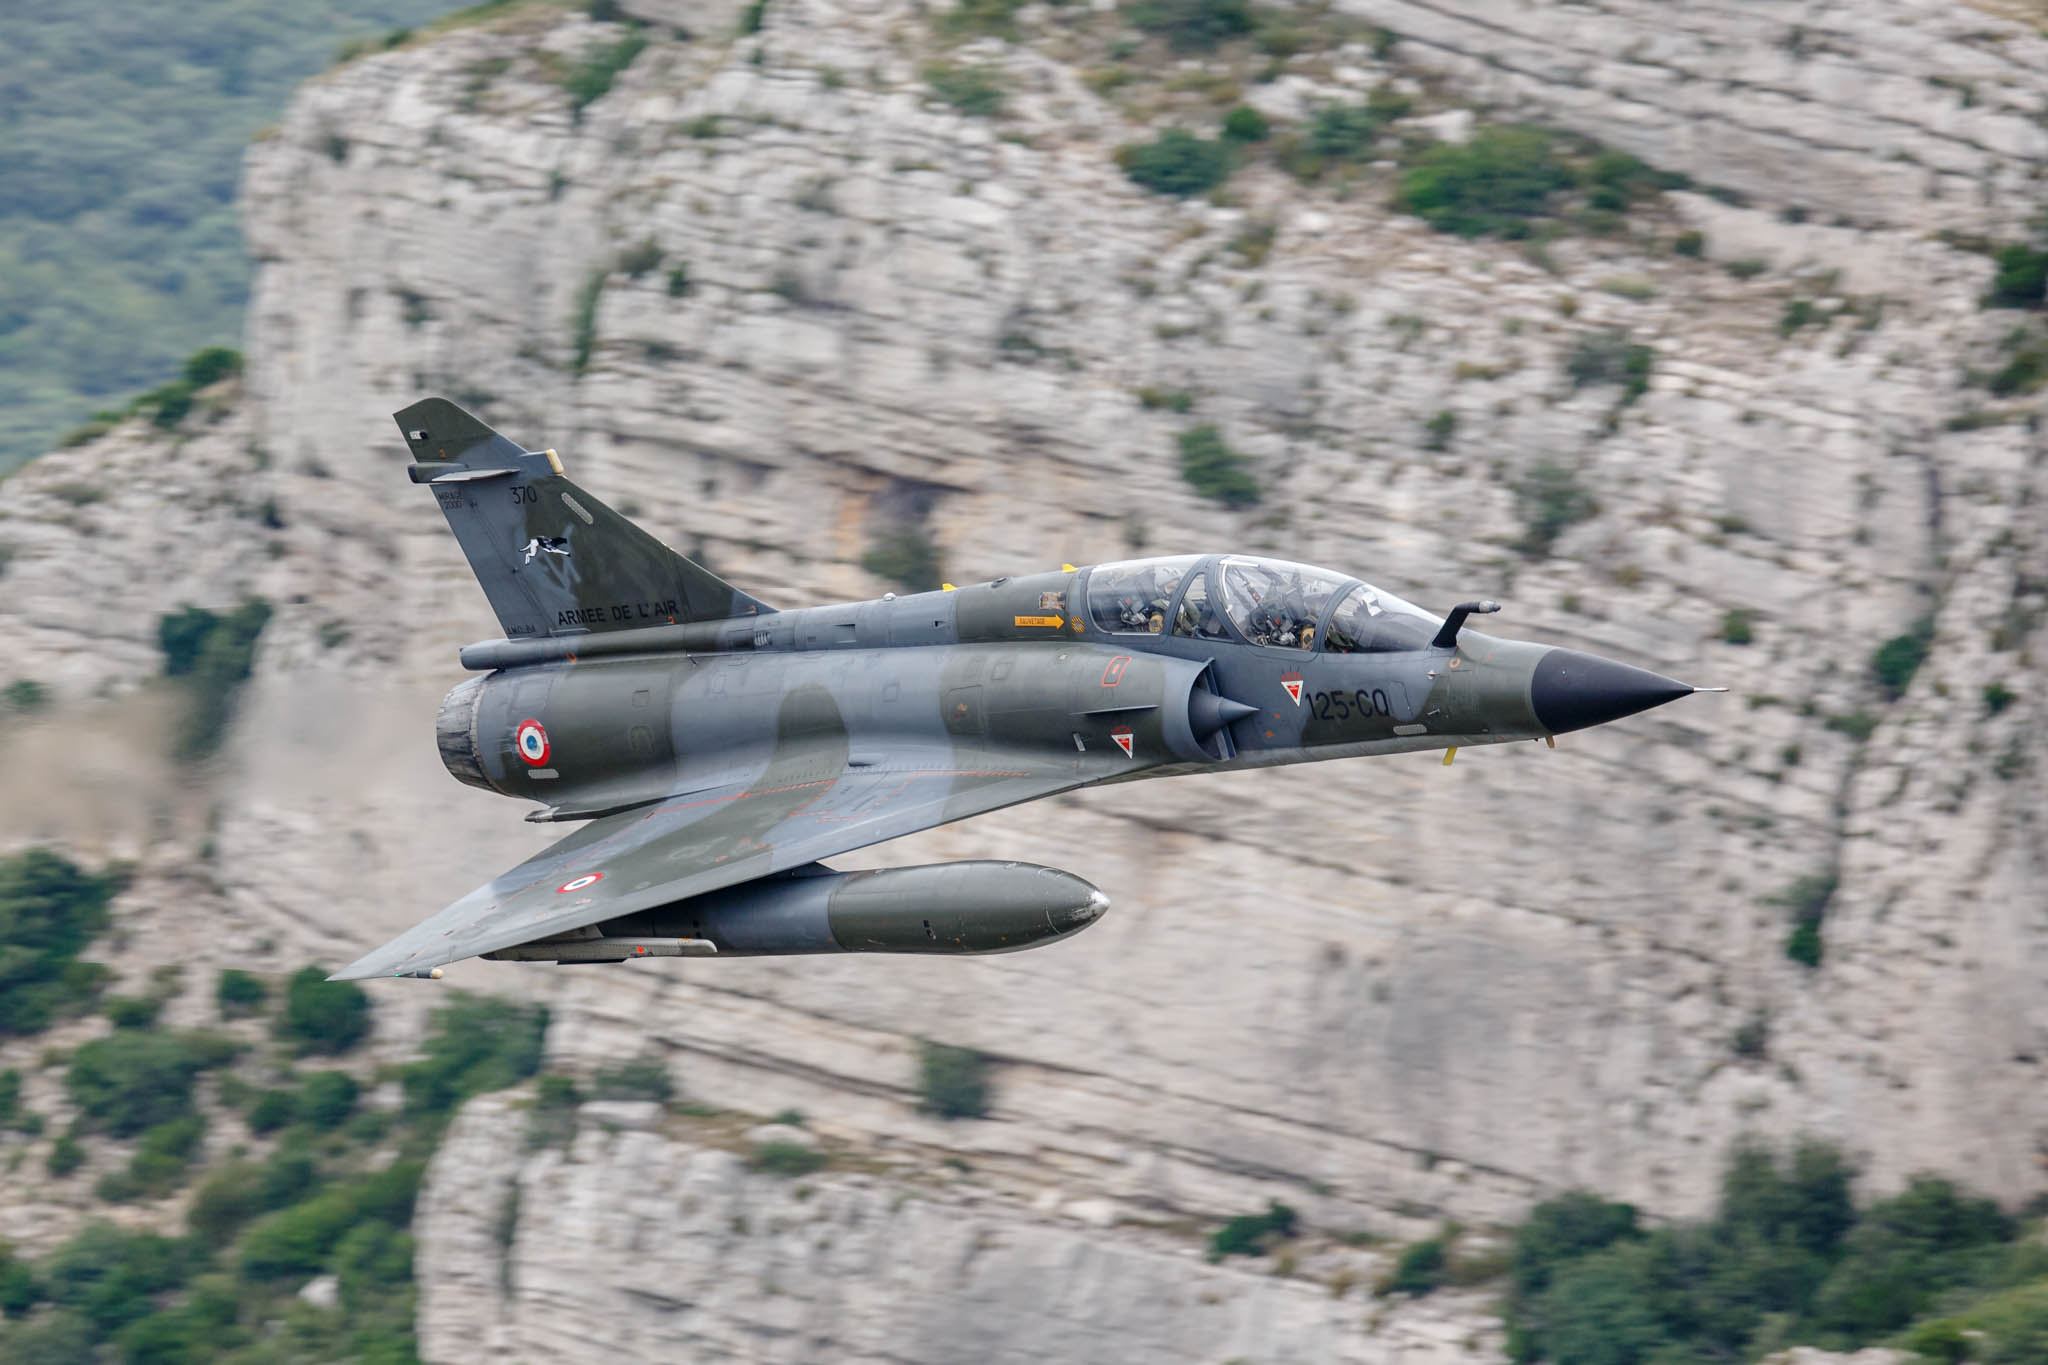Mirage2000: (323, 398, 1727, 983)
